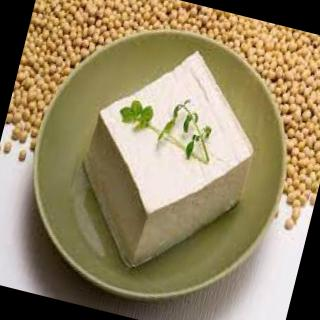Tahu: (55, 29, 298, 298)
